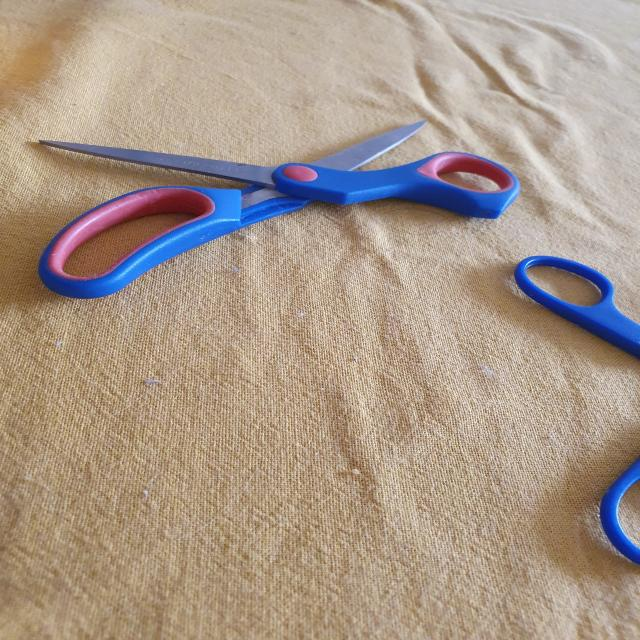scissors: (26, 118, 523, 296), (512, 249, 640, 569)
